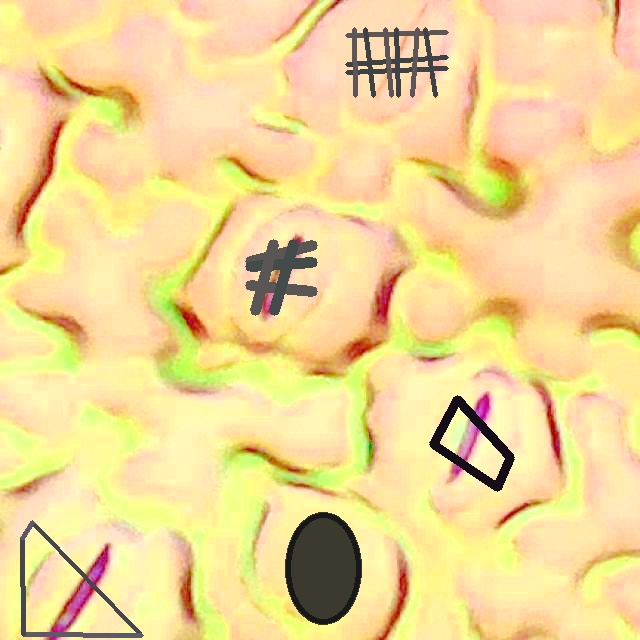close: (285, 511, 361, 624), (345, 27, 448, 97)
open: (20, 520, 143, 636), (429, 395, 514, 491), (246, 240, 316, 314)
